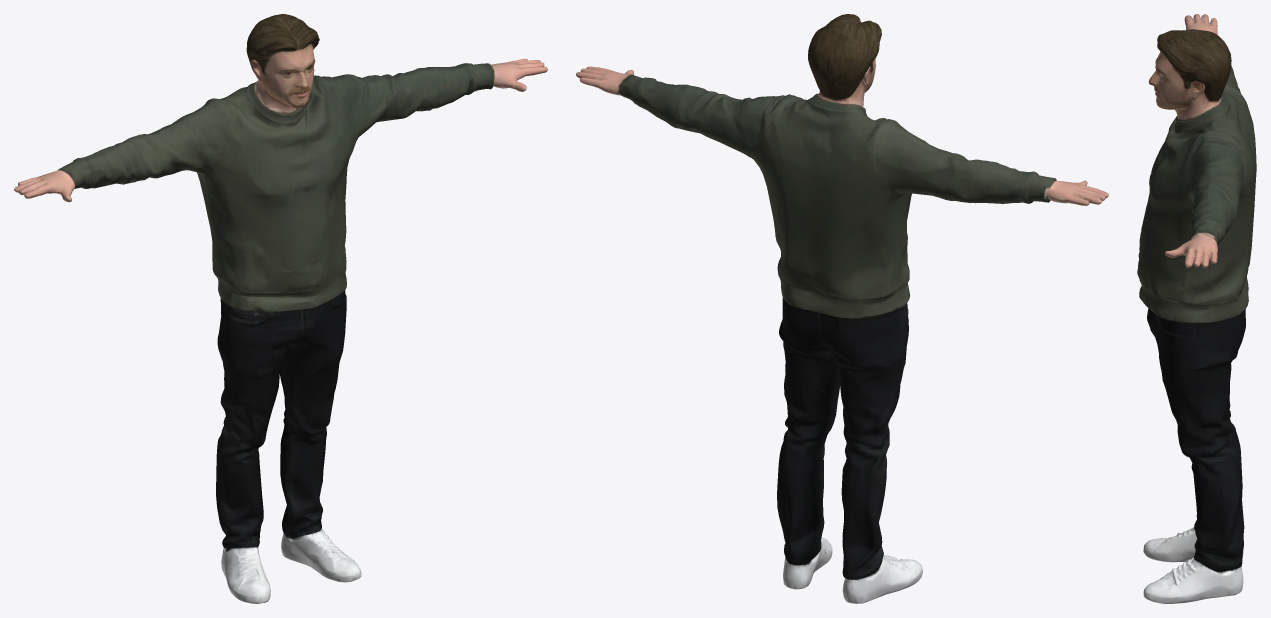
The model's file is harry.glb.
3 views of the same model, side by side, from view 1: azimuth 30°, elevation 25°; view 2: azimuth 150°, elevation 25°; view 3: azimuth 270°, elevation 25° (orthographic). The views are drawn at different scales.
Visible parts, largest first — view 1: model; view 2: model; view 3: model.
Boxes of the visible parts, x1,y1,x2,y2 form: model: (14,14,547,603); model: (576,14,1108,603); model: (1137,14,1256,603).
Bounding box in the file's own units: 0.9673 × 0.9795 × 0.1944.
Materials: 1 (1 with a texture image).
